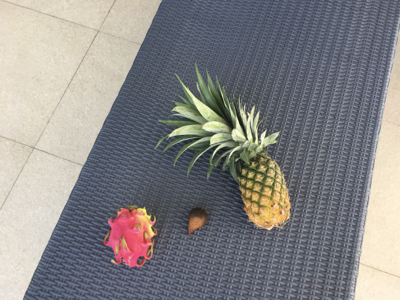dragon fruit: (105, 206, 159, 270)
pineapple: (154, 65, 292, 230)
snake fruit: (186, 208, 209, 236)
